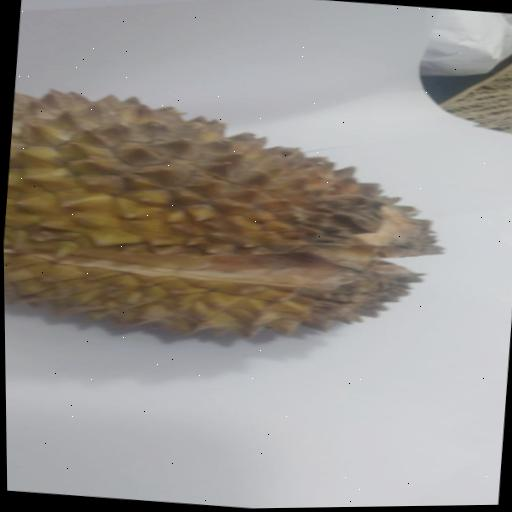rot: (1, 66, 506, 389)
